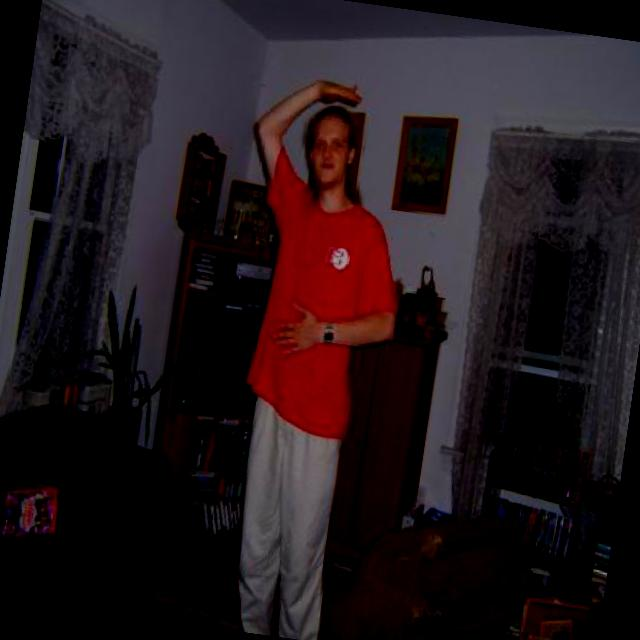Person: (188, 71, 424, 640)
